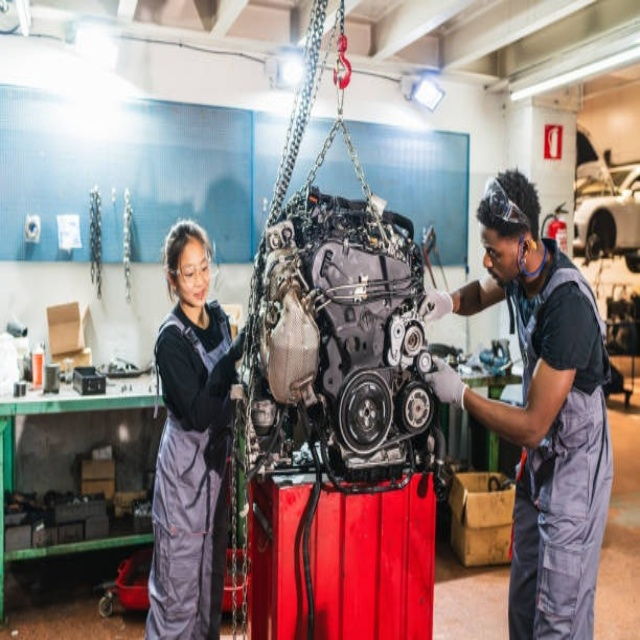Gafas: (174, 251, 212, 281)
Guantes: (426, 350, 472, 409), (417, 287, 457, 323)
Sin_gafas: (479, 234, 513, 256)
Sin_mascara: (485, 262, 503, 287), (190, 284, 208, 307)
